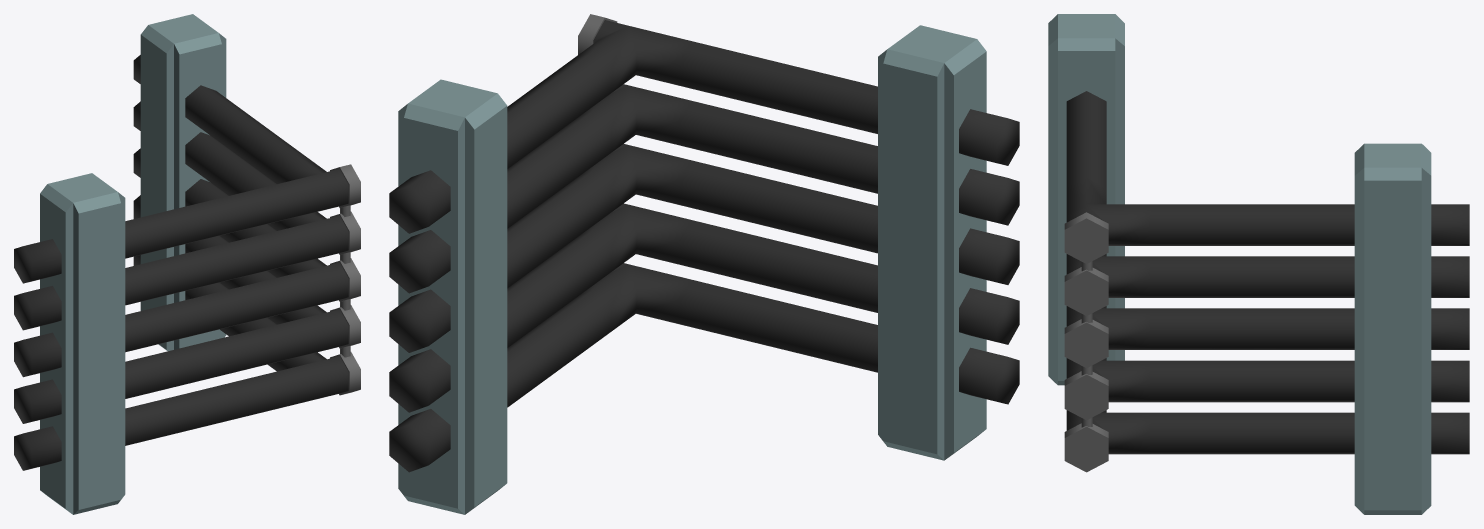
3 views of the same model, side by side, from view 1: azimuth 30°, elevation 25°; view 2: azimuth 150°, elevation 25°; view 3: azimuth 270°, elevation 25° (orthographic). The views are drawn at different scales.
Parts seen in each view (by area): view 1: SW_1x-5x-1_c_h; view 2: SW_1x-5x-1_c_h; view 3: SW_1x-5x-1_c_h.
Part boxes in pixels (x1=…): SW_1x-5x-1_c_h: x1=14, y1=14, x2=360, y2=514; SW_1x-5x-1_c_h: x1=389, y1=14, x2=1019, y2=514; SW_1x-5x-1_c_h: x1=1048, y1=14, x2=1469, y2=514.
Size of what is drawn, in the model's own units: 55 by 50 by 55.
